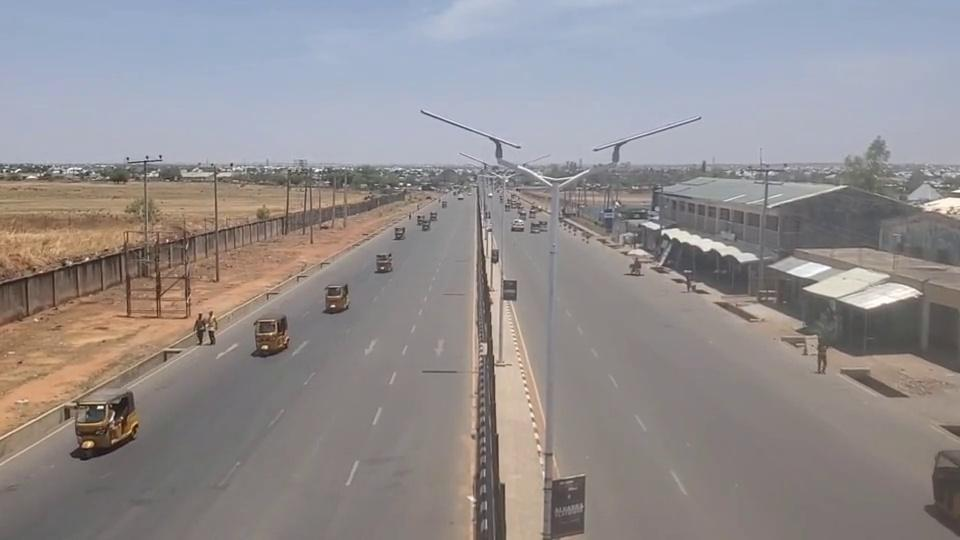car: (510, 219, 525, 232)
keke: (72, 389, 139, 453), (929, 446, 960, 529), (252, 314, 289, 355), (324, 282, 349, 312), (375, 253, 394, 274)
